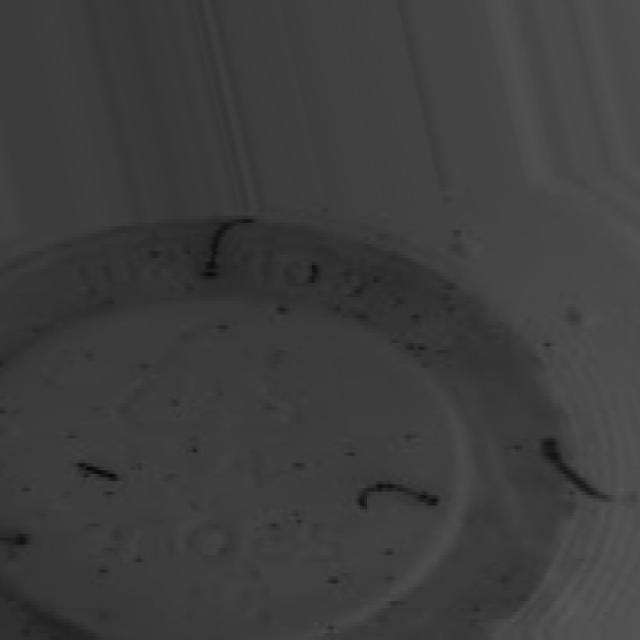larvas: (538, 434, 633, 510), (202, 210, 250, 282), (358, 480, 440, 514), (79, 463, 117, 482), (1, 527, 28, 549)
